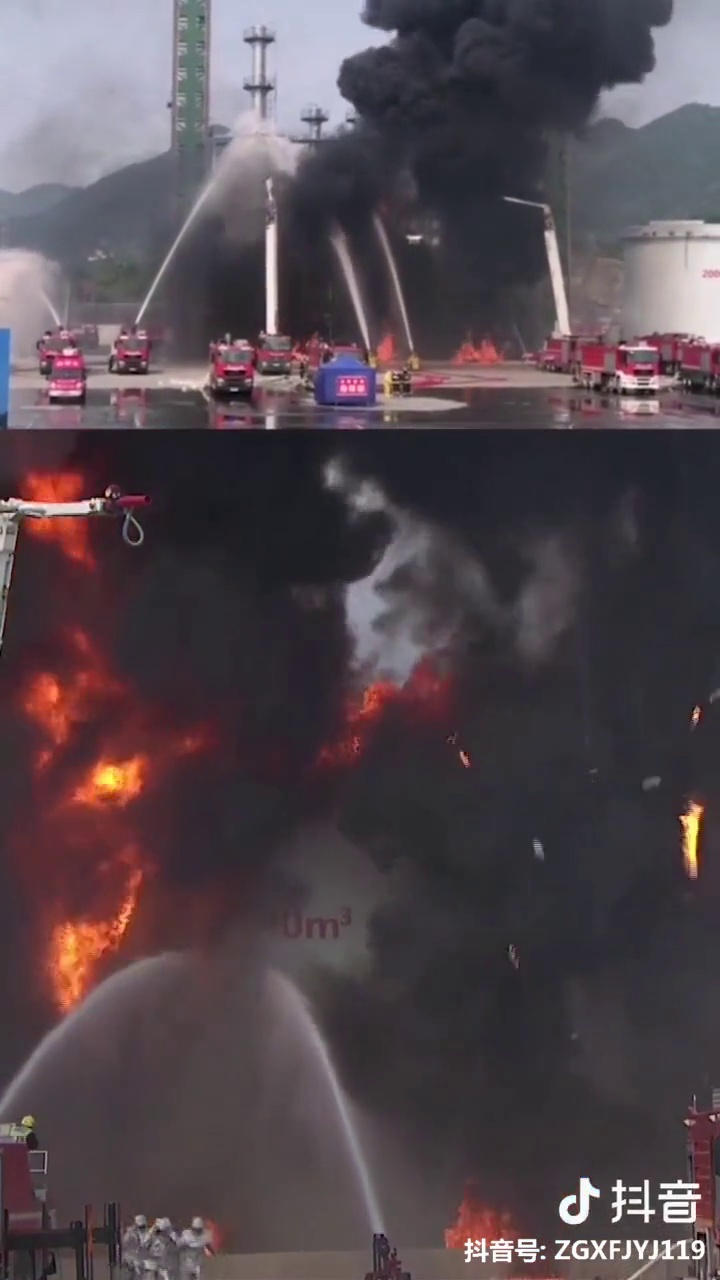fire: (10, 471, 174, 994)
yanwu: (364, 690, 629, 1036), (304, 1, 559, 202)
